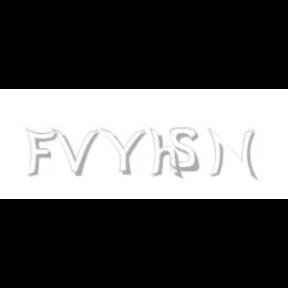F: (25, 128, 57, 178)
N: (208, 128, 256, 180)
S: (170, 128, 200, 172)
V: (51, 128, 99, 176)
Y: (100, 128, 146, 176)
h: (150, 128, 184, 180)
